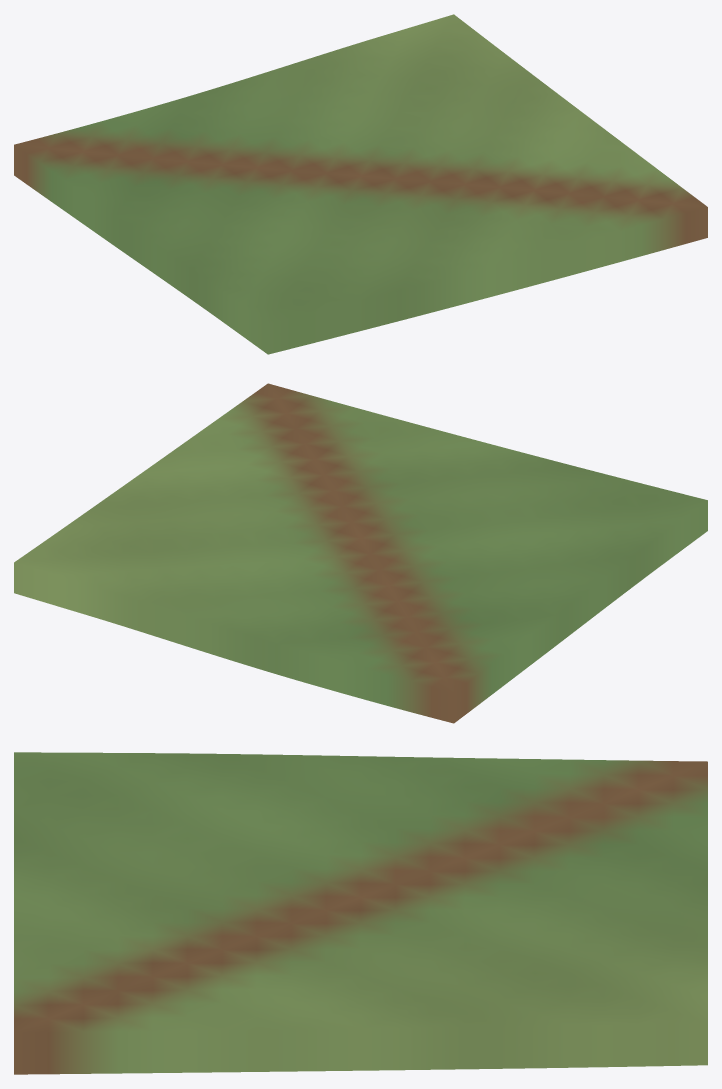
The picture shows the model from 3 angles, top to bottom: view 1: azimuth 30°, elevation 25°; view 2: azimuth 150°, elevation 25°; view 3: azimuth 270°, elevation 25°; orthographic projection. The views are drawn at different scales.
Visible parts, largest first — view 1: terrain; view 2: terrain; view 3: terrain.
Part boxes in pixels (x1=…): terrain: x1=14, y1=14, x2=707, y2=354; terrain: x1=14, y1=383, x2=707, y2=723; terrain: x1=14, y1=752, x2=707, y2=1074.
Size of the model in its own units: 30 by 3.5 by 30.
